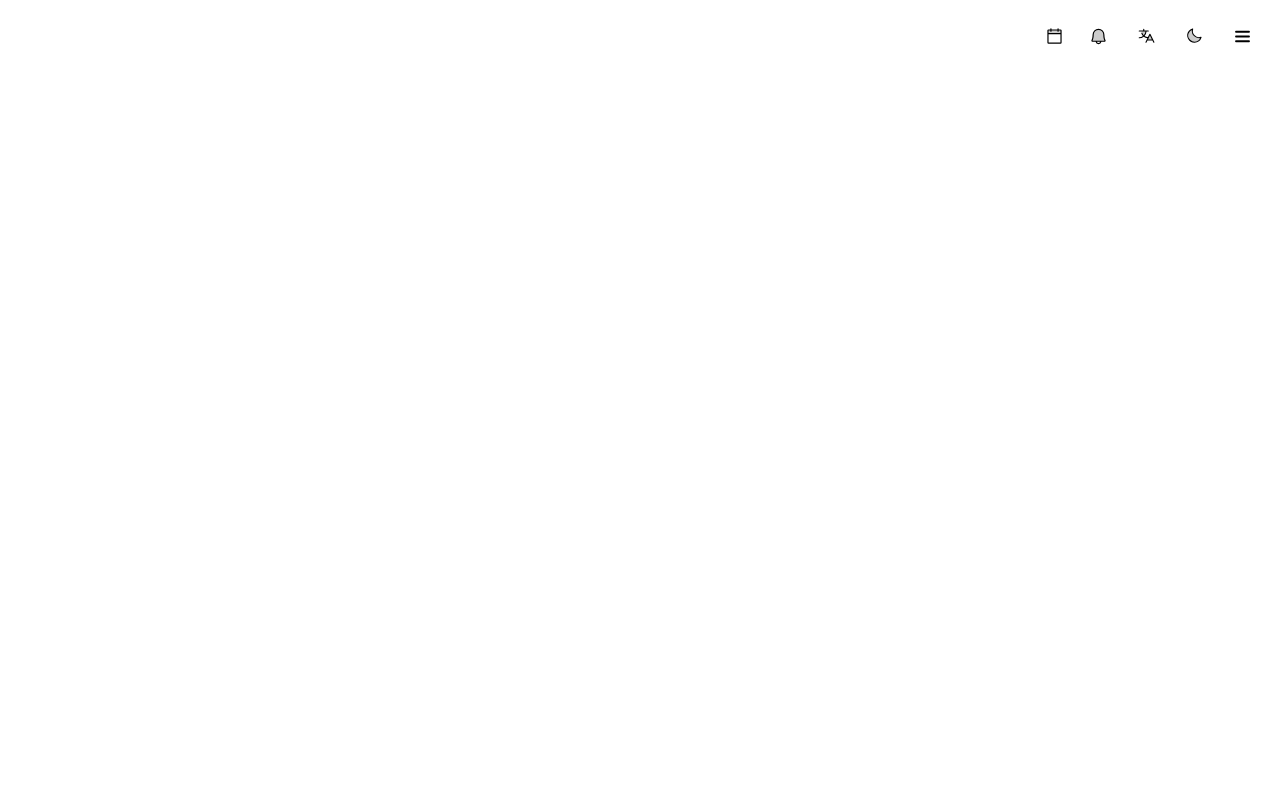
Test case: Header › mobile navigation drawer › opens a drawer carrying the role-scoped links and the sign out
What coordinates should you click on to do the following:
click the button named "打开导航菜单"
I would click on:
 (1242, 36)
Its box is [1220,14,1264,58].
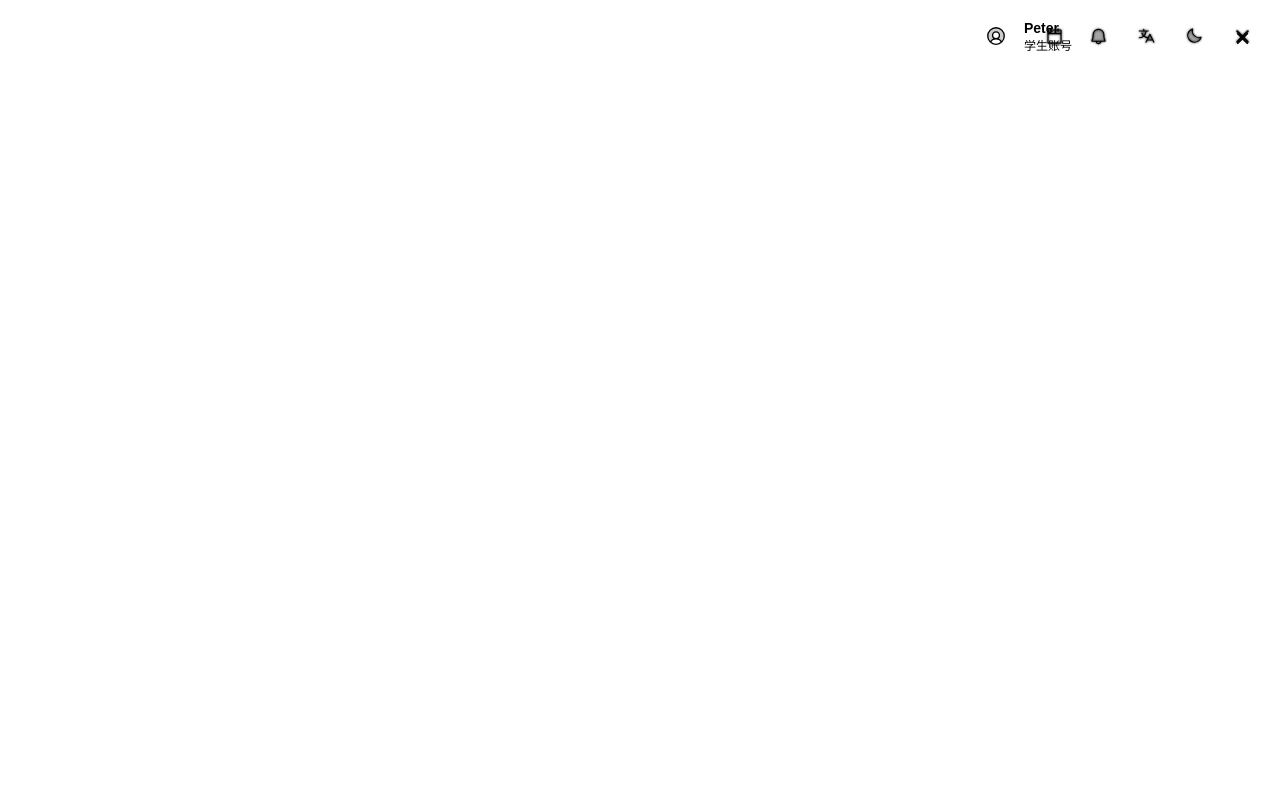
Expected: the 2nd button named "打开导航菜单" is expanded, [1220,14,1264,58]
Expected: the text "Peter" is shown, [1024,20,1059,36]
